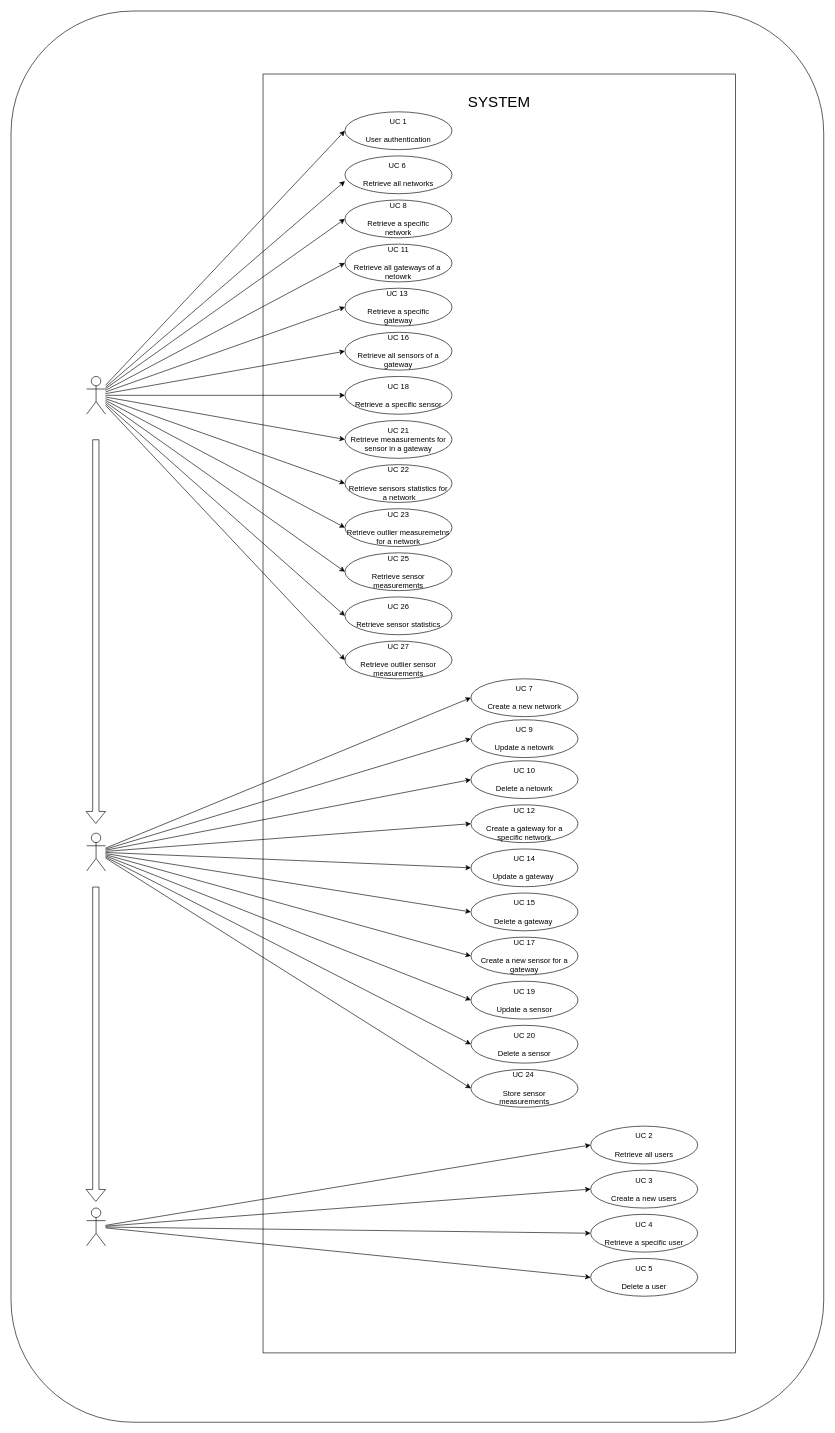
The diagram is 835 pixels wide and 1433 high, and some of its shapes have lost their labels. The box of each missing label's shape, as (x1, y1, x2, y2) in pixels:
Admin: (86, 1207, 106, 1246)
Operator: (86, 833, 106, 871)
Viewer: (86, 376, 106, 414)
